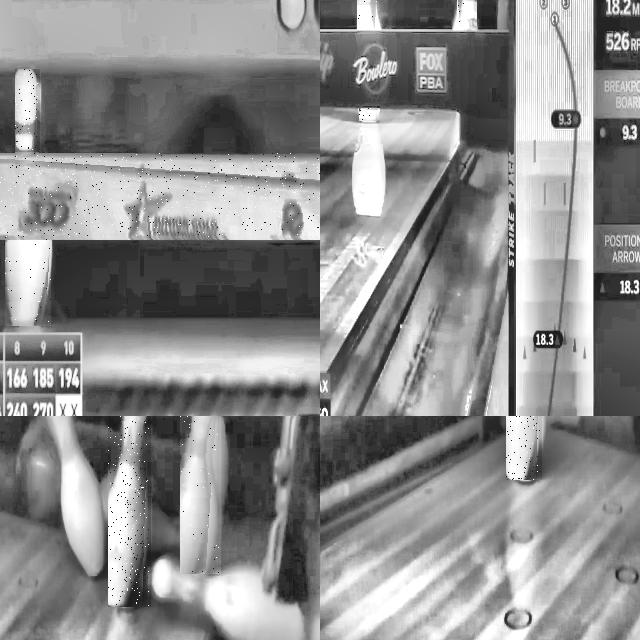bowling-pins: (109, 416, 148, 607), (181, 416, 217, 574), (5, 234, 51, 326), (506, 416, 540, 480), (15, 70, 38, 158), (357, 0, 377, 28), (460, 0, 475, 28), (360, 108, 377, 121)
sweep board: (0, 161, 320, 237), (320, 29, 509, 141)
